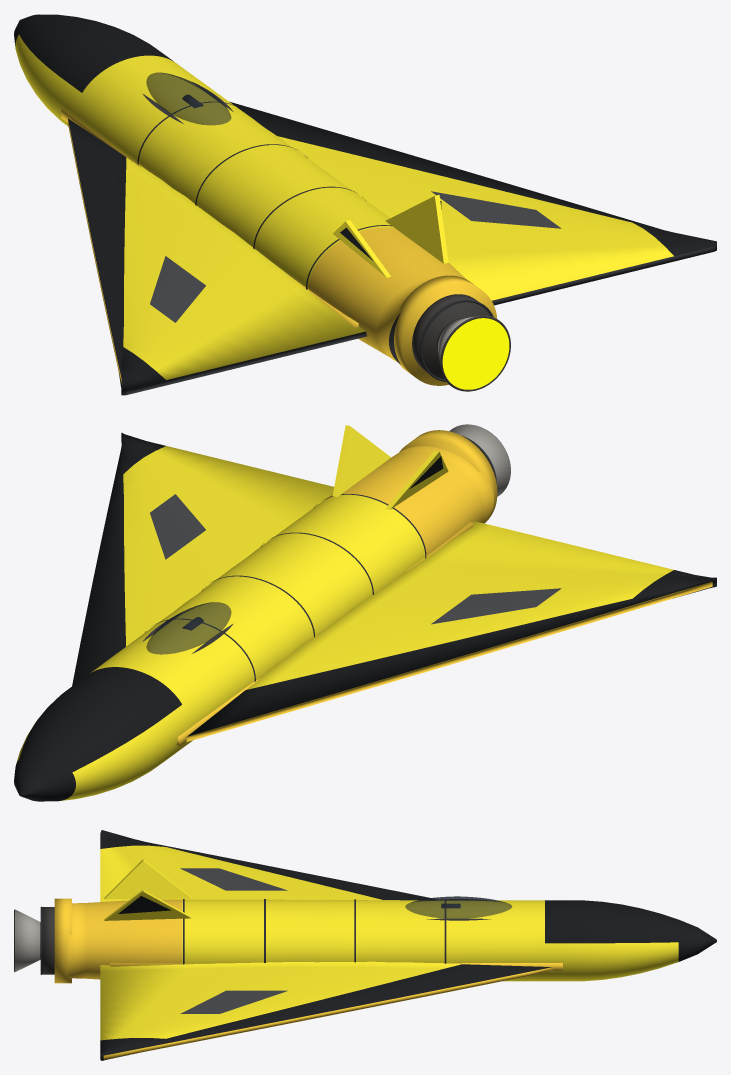
The model's file is Ship_Longwing_8.glb.
3 renders of one model, top to bottom at view 1: azimuth 30°, elevation 25°; view 2: azimuth 150°, elevation 25°; view 3: azimuth 270°, elevation 25°, orthographic. The views are drawn at different scales.
Visible parts, largest first — view 1: Fuselage_OrganicEllipsoidTaperedBody_BakedPaint, Wing_Left_LongDeltaAerofoil_BakedPaint, Wing_Right_LongDeltaAerofoil_BakedPaint, EngineEmitter, AftCollar_IntegratedSingleEngineBand, CanopyGlass_LowInsetDome, EngineBlock_AftDarkSingleEngineHousing, TailFin_Right_CantedStabilizer, TailFin_Left_CantedStabilizer, WingRoot_Left_EmbeddedShoulder; view 2: Fuselage_OrganicEllipsoidTaperedBody_BakedPaint, Wing_Left_LongDeltaAerofoil_BakedPaint, Wing_Right_LongDeltaAerofoil_BakedPaint, CanopyGlass_LowInsetDome, TailFin_Right_CantedStabilizer, AftCollar_IntegratedSingleEngineBand, EngineBell_Center_BroadBurnishedNozzle, TailFin_Left_CantedStabilizer, WingRoot_Left_EmbeddedShoulder; view 3: Fuselage_OrganicEllipsoidTaperedBody_BakedPaint, Wing_Right_LongDeltaAerofoil_BakedPaint, Wing_Left_LongDeltaAerofoil_BakedPaint, CanopyGlass_LowInsetDome, TailFin_Left_CantedStabilizer, AftCollar_IntegratedSingleEngineBand, EngineBell_Center_BroadBurnishedNozzle, TailFin_Right_CantedStabilizer, EngineBlock_AftDarkSingleEngineHousing, WingRoot_Right_EmbeddedShoulder, TailFin_Right_BakedTrimPatch.
Boxes of the visible parts, <box> form: Fuselage_OrganicEllipsoidTaperedBody_BakedPaint: <box>14,14,466,364</box>; Wing_Left_LongDeltaAerofoil_BakedPaint: <box>68,118,366,395</box>; Wing_Right_LongDeltaAerofoil_BakedPaint: <box>229,101,716,305</box>; EngineEmitter: <box>442,318,509,389</box>; AftCollar_IntegratedSingleEngineBand: <box>394,275,497,385</box>; CanopyGlass_LowInsetDome: <box>146,72,231,125</box>; EngineBlock_AftDarkSingleEngineHousing: <box>412,294,490,379</box>; TailFin_Right_CantedStabilizer: <box>385,194,448,263</box>; TailFin_Left_CantedStabilizer: <box>333,220,390,277</box>; WingRoot_Left_EmbeddedShoulder: <box>61,108,358,327</box>; Fuselage_OrganicEllipsoidTaperedBody_BakedPaint: <box>14,446,493,801</box>; Wing_Left_LongDeltaAerofoil_BakedPaint: <box>186,521,716,742</box>; Wing_Right_LongDeltaAerofoil_BakedPaint: <box>72,433,333,685</box>; CanopyGlass_LowInsetDome: <box>146,602,231,654</box>; TailFin_Right_CantedStabilizer: <box>332,425,390,496</box>; AftCollar_IntegratedSingleEngineBand: <box>399,430,497,523</box>; EngineBell_Center_BroadBurnishedNozzle: <box>449,424,510,496</box>; TailFin_Left_CantedStabilizer: <box>385,450,448,509</box>; WingRoot_Left_EmbeddedShoulder: <box>176,522,473,745</box>; Fuselage_OrganicEllipsoidTaperedBody_BakedPaint: <box>67,899,716,981</box>; Wing_Right_LongDeltaAerofoil_BakedPaint: <box>100,961,554,1060</box>; Wing_Left_LongDeltaAerofoil_BakedPaint: <box>100,830,434,901</box>; CanopyGlass_LowInsetDome: <box>405,896,512,918</box>; TailFin_Left_CantedStabilizer: <box>104,859,191,899</box>; AftCollar_IntegratedSingleEngineBand: <box>54,898,71,983</box>; EngineBell_Center_BroadBurnishedNozzle: <box>15,909,40,971</box>; TailFin_Right_CantedStabilizer: <box>104,890,191,920</box>; EngineBlock_AftDarkSingleEngineHousing: <box>42,907,54,974</box>; WingRoot_Right_EmbeddedShoulder: <box>110,962,562,970</box>; TailFin_Right_BakedTrimPatch: <box>118,896,170,913</box>.
Bounding box in the file's own units: 5.93 × 1.3 × 7.85.
